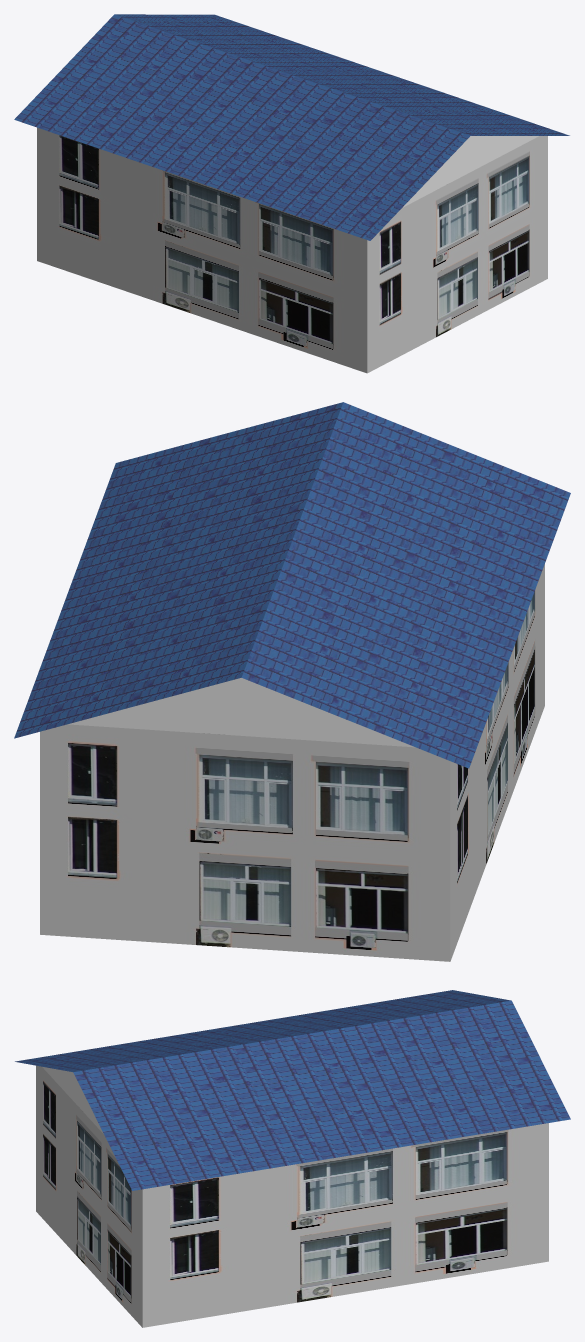
3 views of the same model, one above another, from view 1: azimuth 30°, elevation 25°; view 2: azimuth 150°, elevation 25°; view 3: azimuth 270°, elevation 25° (orthographic). The views are drawn at different scales.
Parts seen in each view (by area): view 1: CityEngineMaterial_9_m, CityEngineMaterial_10_m, CityEngineMaterial_3_m; view 2: CityEngineMaterial_10_m, CityEngineMaterial_9_m, CityEngineMaterial_3_m; view 3: CityEngineMaterial_9_m, CityEngineMaterial_10_m, CityEngineMaterial_3_m.
Boxes of the visible parts, left/top/right/bottom form: CityEngineMaterial_9_m: left=37, top=127, right=547, bottom=373; CityEngineMaterial_10_m: left=14, top=14, right=569, bottom=240; CityEngineMaterial_3_m: left=402, top=136, right=538, bottom=207; CityEngineMaterial_10_m: left=14, top=402, right=570, bottom=768; CityEngineMaterial_9_m: left=40, top=564, right=544, bottom=961; CityEngineMaterial_3_m: left=68, top=678, right=414, bottom=747; CityEngineMaterial_9_m: left=36, top=1065, right=548, bottom=1327; CityEngineMaterial_10_m: left=15, top=990, right=570, bottom=1190; CityEngineMaterial_3_m: left=42, top=1066, right=103, bottom=1133.
Size of the model in its own units: 27.63 by 12.82 by 32.36.
